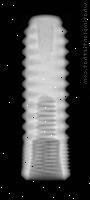Euroteknika: (21, 14, 71, 180)
